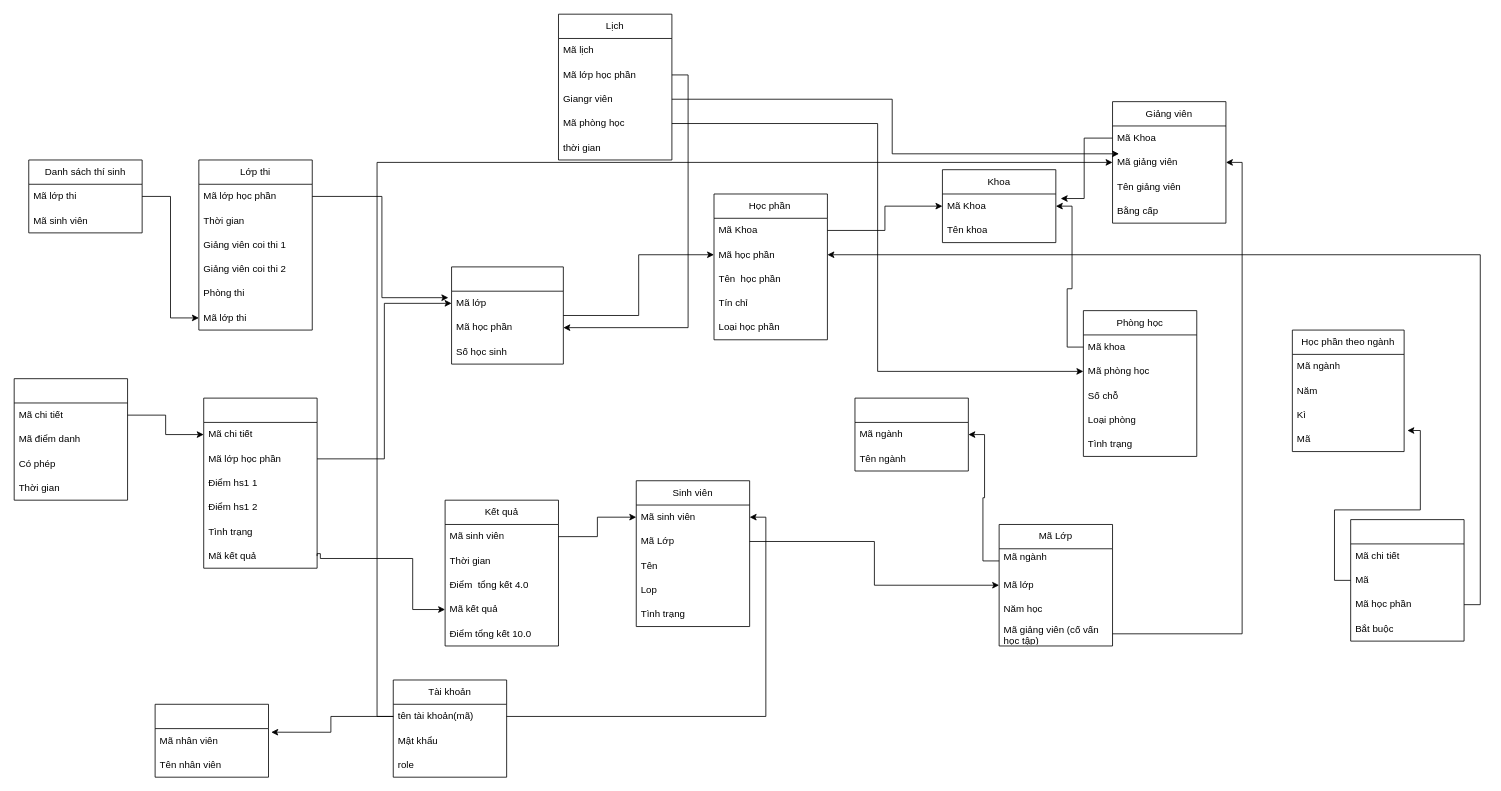
Image size: 1501x791. Some labels were removed from this diagram. The box of each missing label's shape, as (x1, y1, x2, y2) in pixels:
Chi tiết học phần theo ngành: (1350, 519, 1464, 641)
Chi tiết quá trình: (203, 397, 317, 568)
Lớp học phần: (451, 266, 563, 364)
Ngành học: (854, 397, 968, 471)
Phòng đào tạo: (154, 703, 269, 777)
Điểm danh học phần: (13, 378, 128, 500)
